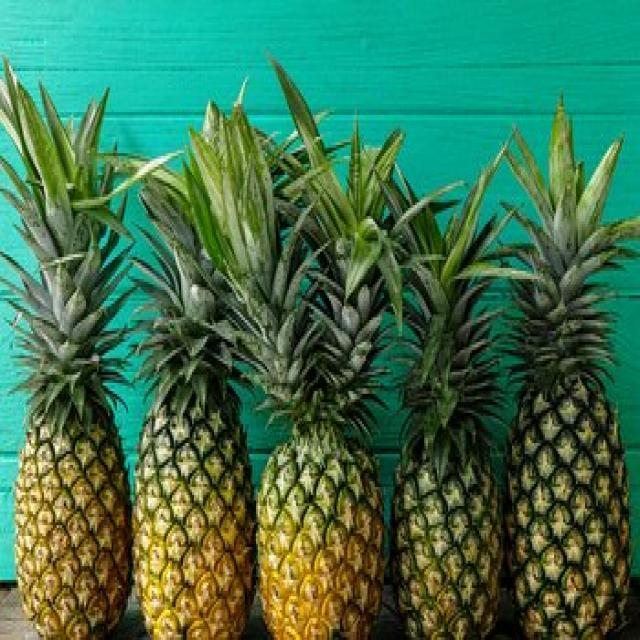PINEAPLE: (8, 96, 132, 634), (259, 175, 386, 640), (512, 161, 635, 638), (139, 178, 254, 640), (395, 183, 503, 640)
